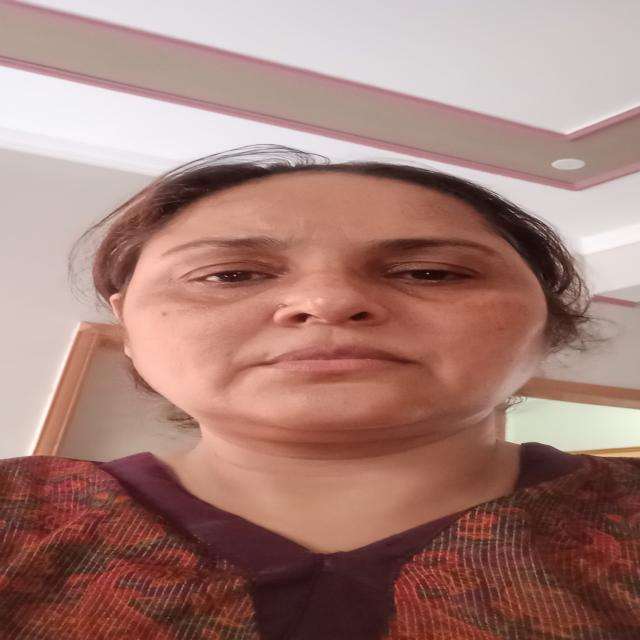Acne: (494, 326, 506, 332)
Wrinkles: (224, 326, 267, 368), (218, 289, 268, 307), (220, 366, 247, 396), (389, 285, 427, 300), (395, 320, 422, 340), (423, 362, 446, 384), (428, 346, 445, 369), (338, 226, 356, 246), (304, 226, 320, 244)
